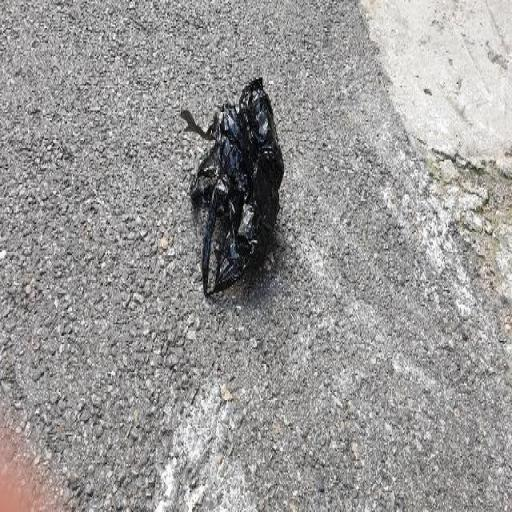plastic-bag: (176, 72, 286, 300)
